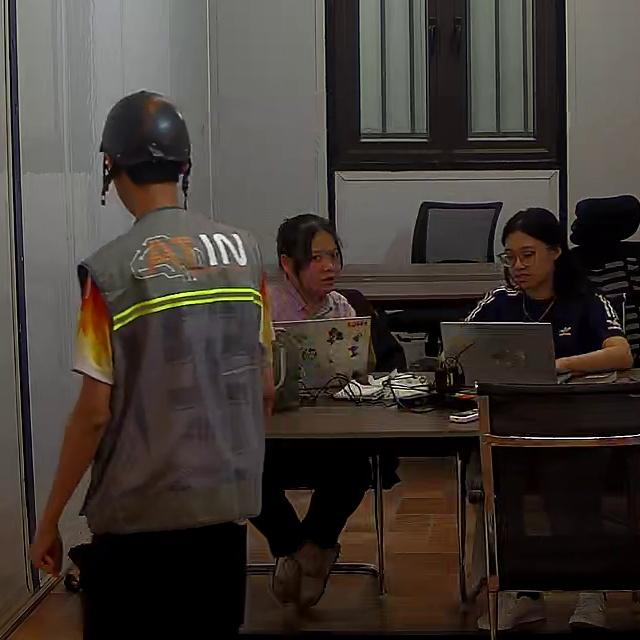helmet: (99, 90, 194, 196)
no_helmet: (275, 214, 344, 277), (503, 207, 570, 255)
none: (463, 284, 625, 364), (264, 276, 355, 324)
vest: (81, 218, 267, 532)
